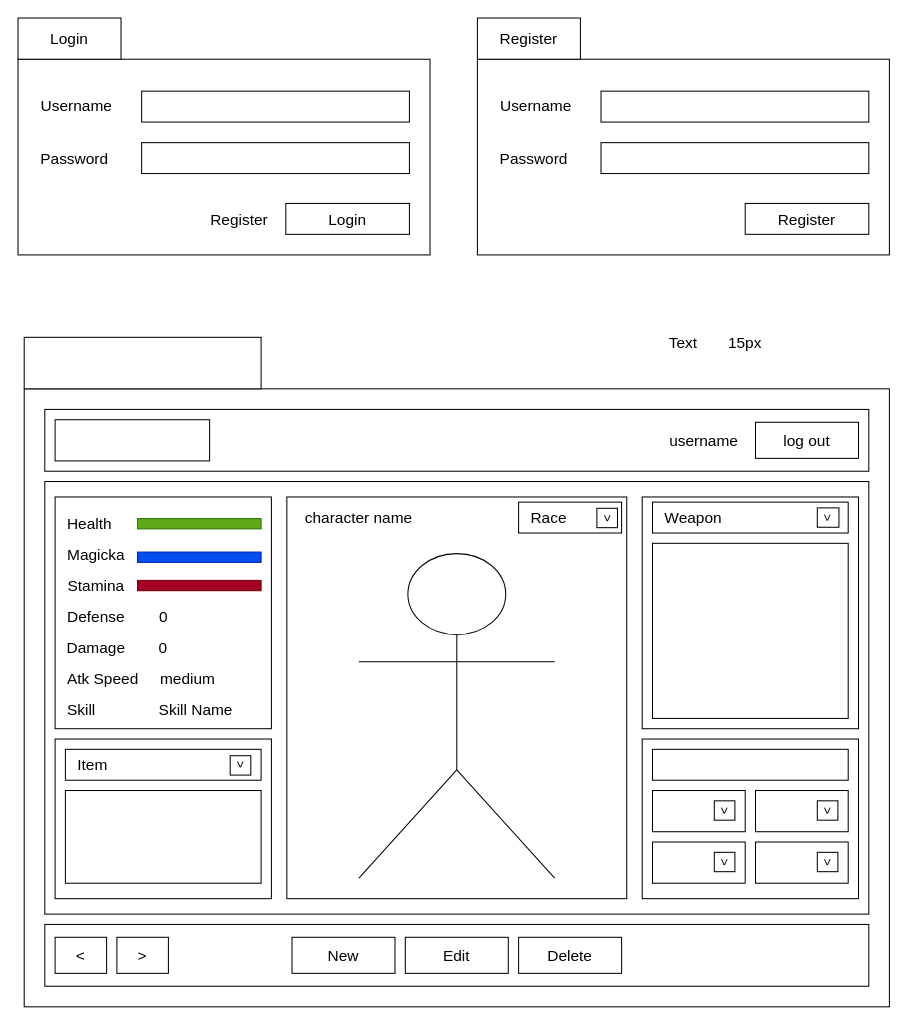
Some shapes in this 907 by 1025 pixel diagram are drawn without their labels. Here are the shapes that lost their labels. From the top down, the centre of each, then its label:
pixel 142 362: Character Configuration
pixel 132 440: Skirym
pixel 749 764: Clothing
